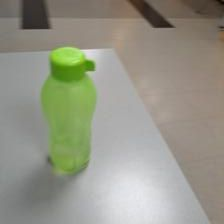bottle: (42, 41, 100, 172)
